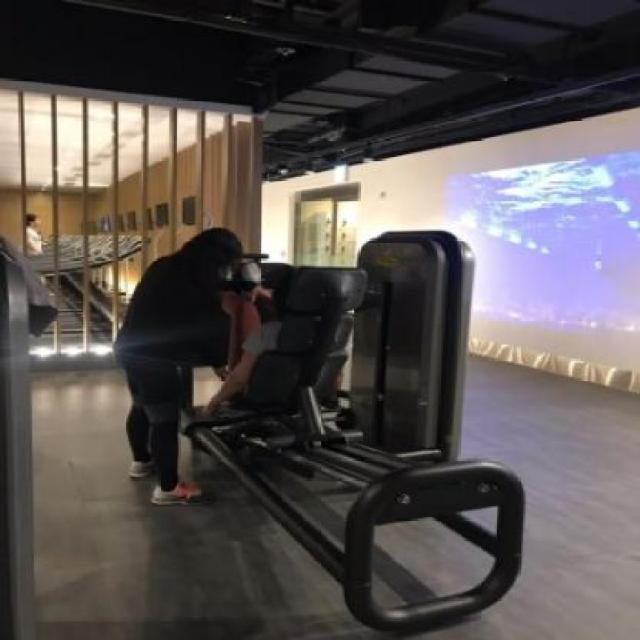leg press: (72, 186, 557, 634)
